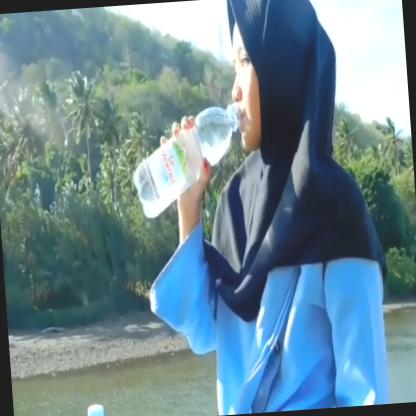plastic_bottles: (126, 106, 250, 220)
